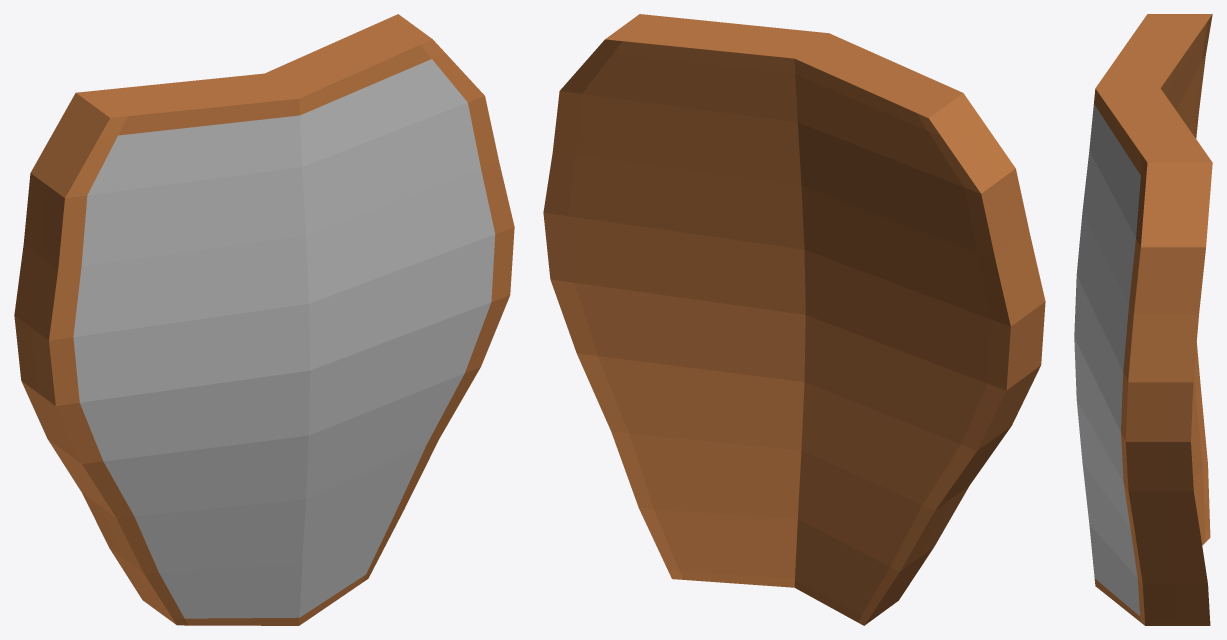
Rendered from Powa invuln.fbx.
The picture shows the model from 3 angles, left to right: view 1: azimuth 30°, elevation 25°; view 2: azimuth 150°, elevation 25°; view 3: azimuth 270°, elevation 25°; orthographic projection. The views are drawn at different scales.
Visible parts, largest first — view 1: Cube; view 2: Cube; view 3: Cube.
Boxes of the visible parts, x1=… form: Cube: x1=14, y1=14, x2=514, y2=625; Cube: x1=543, y1=14, x2=1045, y2=625; Cube: x1=1074, y1=14, x2=1212, y2=625.
Bounding box in the file's own units: 210 × 227 × 57.19.
